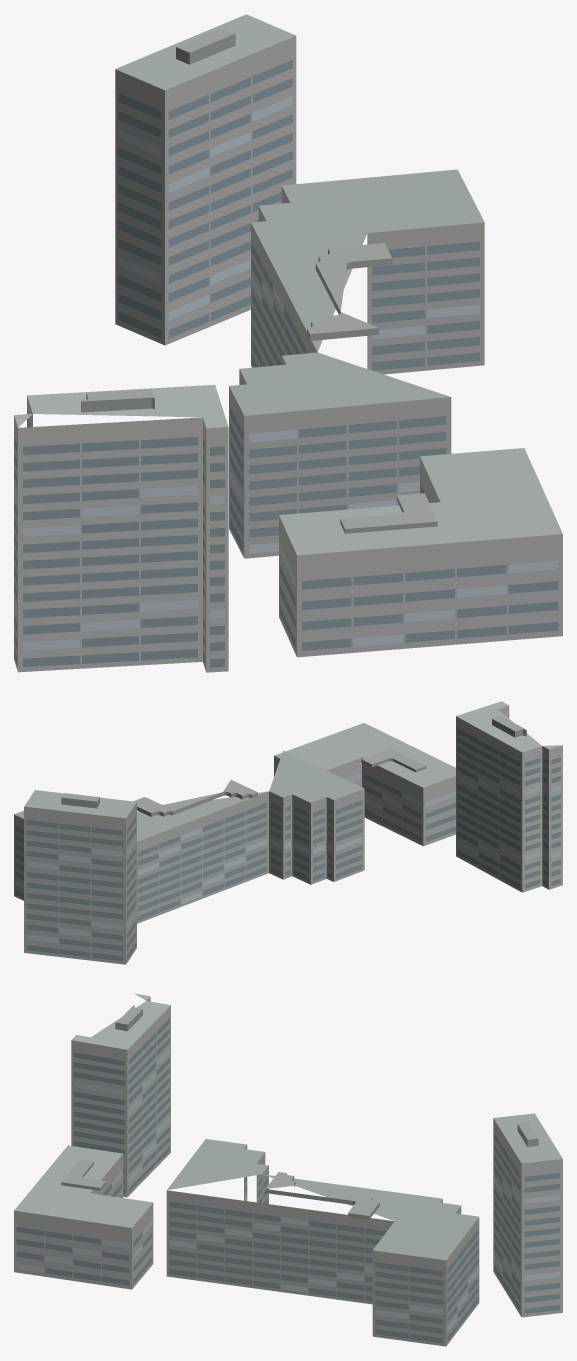
Rendered from apt-a10022761.glb.
The picture shows the model from 3 angles, top to bottom: view 1: azimuth 30°, elevation 25°; view 2: azimuth 150°, elevation 25°; view 3: azimuth 270°, elevation 25°; orthographic projection. The views are drawn at different scales.
Visible parts, largest first — view 1: apt-a10022761; view 2: apt-a10022761; view 3: apt-a10022761.
Boxes of the visible parts, x1=… form: apt-a10022761: x1=14, y1=14, x2=562, y2=672; apt-a10022761: x1=14, y1=701, x2=562, y2=964; apt-a10022761: x1=14, y1=993, x2=562, y2=1346.
Size of the model in its own units: 137 by 50 by 154.
